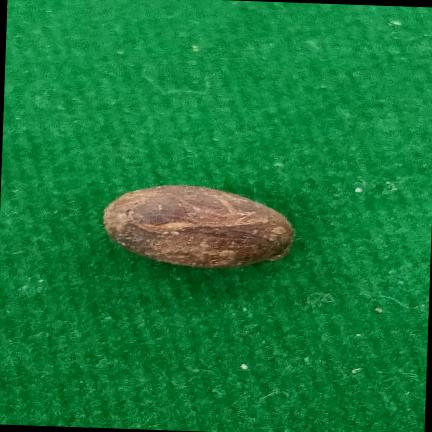full-black: (104, 185, 294, 268)
